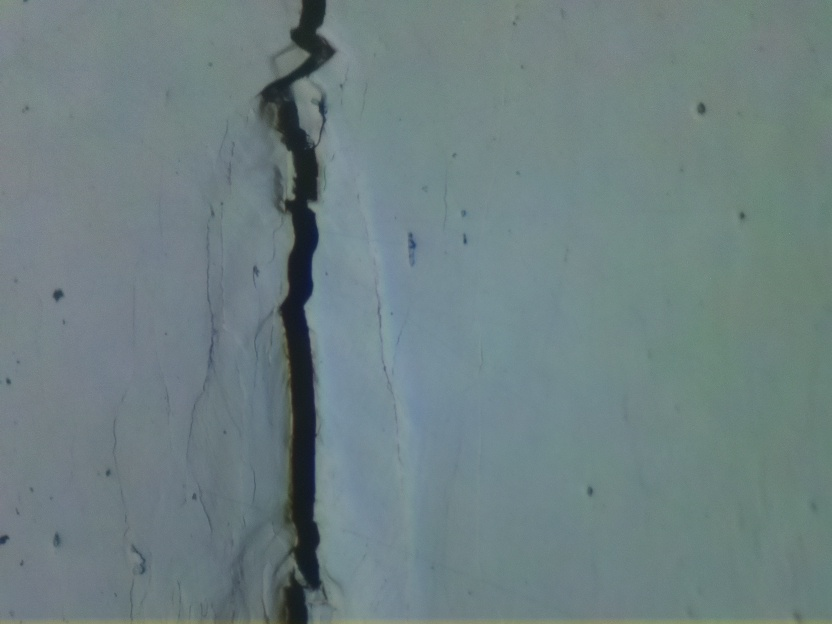crack: (261, 0, 338, 624)
